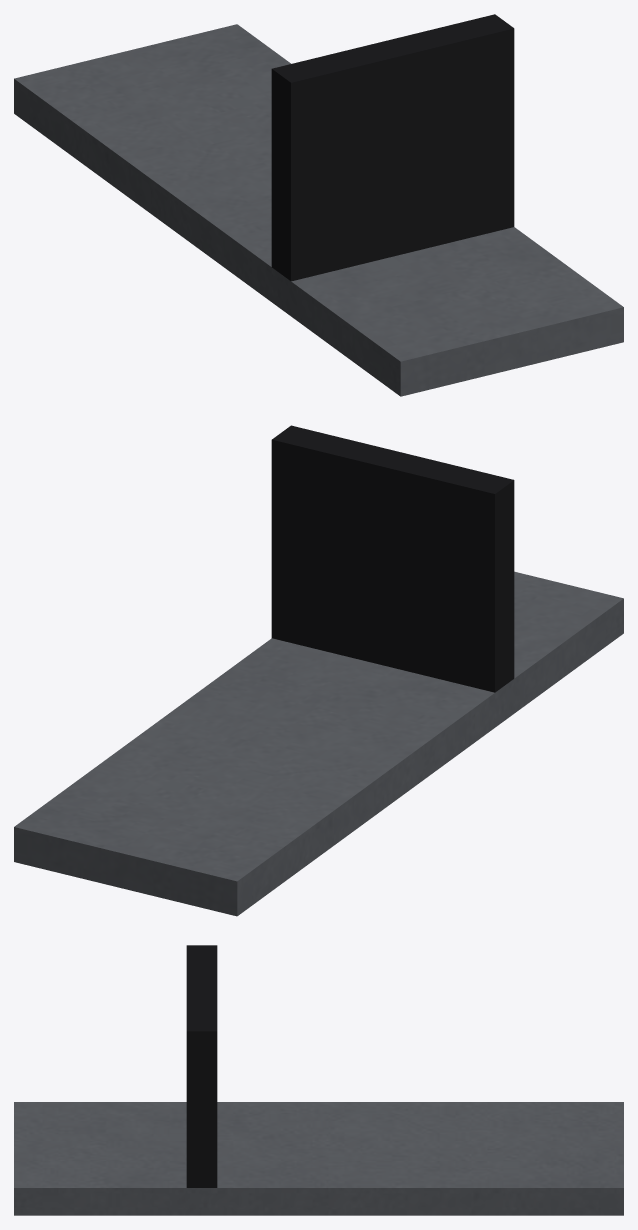
File: extinguisher_missing.glb
The picture shows the model from 3 angles, top to bottom: view 1: azimuth 30°, elevation 25°; view 2: azimuth 150°, elevation 25°; view 3: azimuth 270°, elevation 25°; orthographic projection. The views are drawn at different scales.
Visible parts, largest first — view 1: extinguisher_missing; view 2: extinguisher_missing; view 3: extinguisher_missing.
Boxes of the visible parts, x1=… form: extinguisher_missing: x1=14, y1=14, x2=623, y2=396; extinguisher_missing: x1=14, y1=425, x2=623, y2=916; extinguisher_missing: x1=14, y1=945, x2=623, y2=1215.
Bounding box in the file's own units: 0.2 × 0.2 × 0.6.
2 materials, 1 textured.
